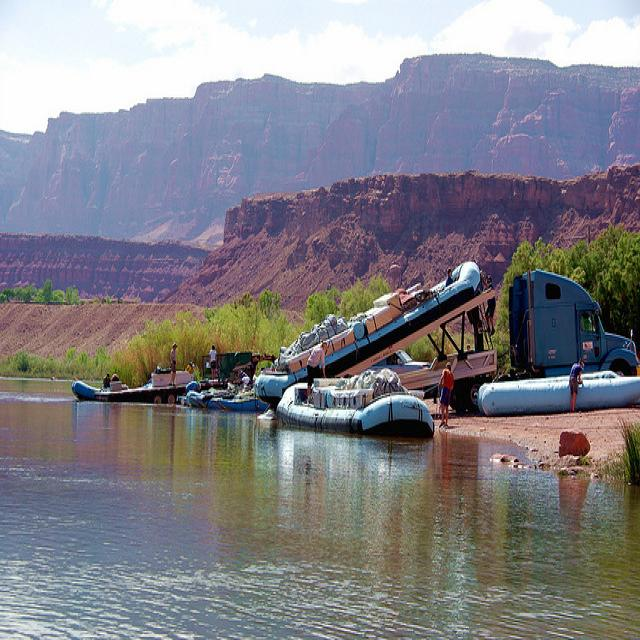Vehicle: (494, 271, 637, 383), (368, 349, 431, 374)
